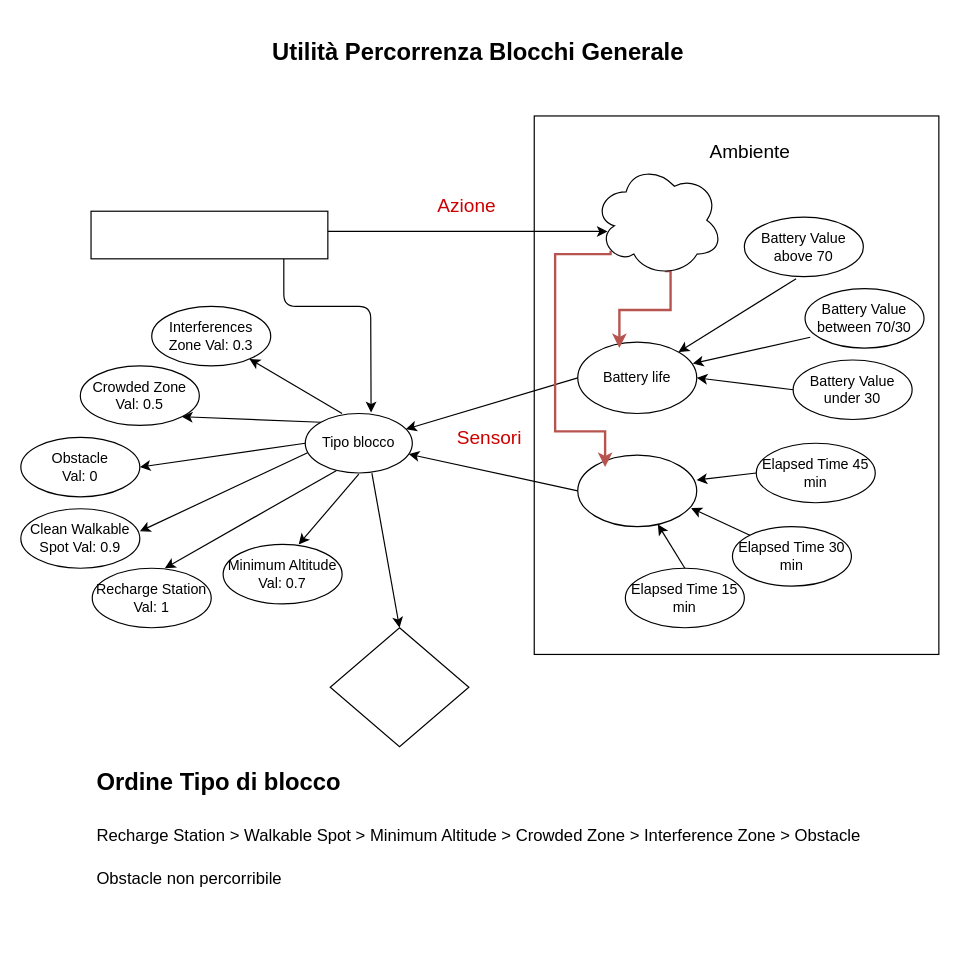
Image size: 960x969. Some labels were removed from this diagram. Here are the shapes that lost their labels. From the top down, the centre of each, then its label:
the point at 209,234: Blocco da Percorrere
the point at 658,219: Conoscenza: Percorso effettuato
the point at 637,490: Time Elapsed
the point at 399,687: Utilità
